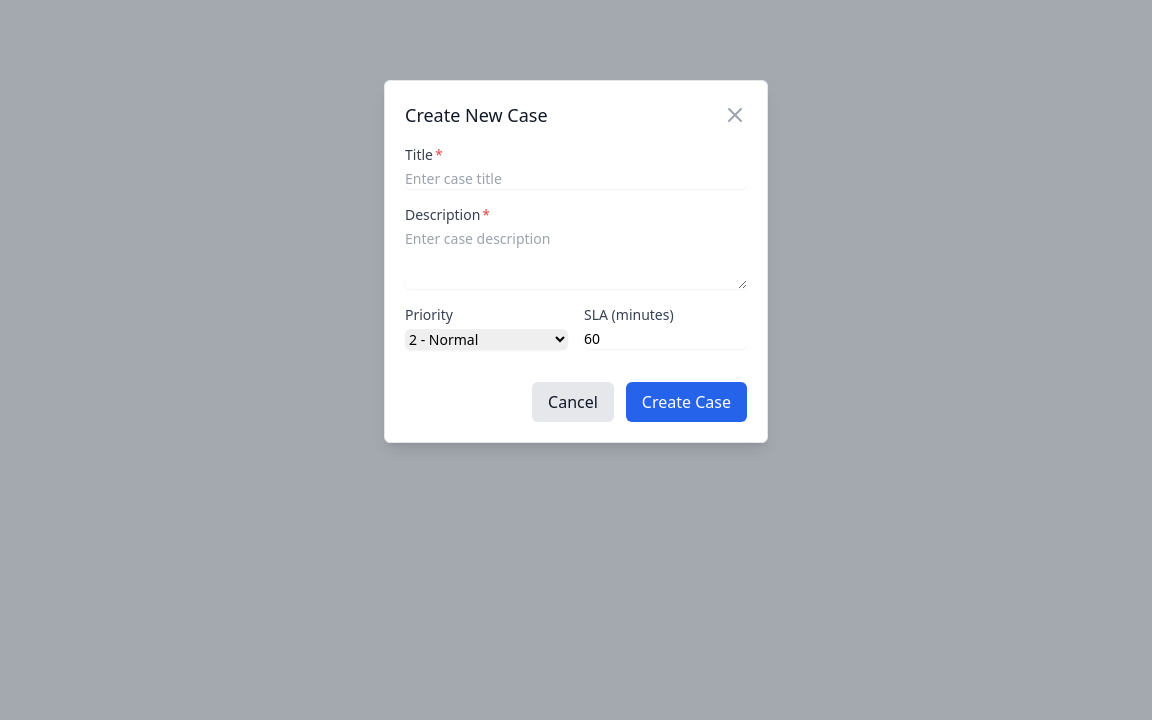
Scenario: CreateCaseModal › shows loading state when submitting
Type "Test Case" into the field with placeholder "Enter case title".
click(576, 179); type("Test Case")  # box [405,169,747,189]
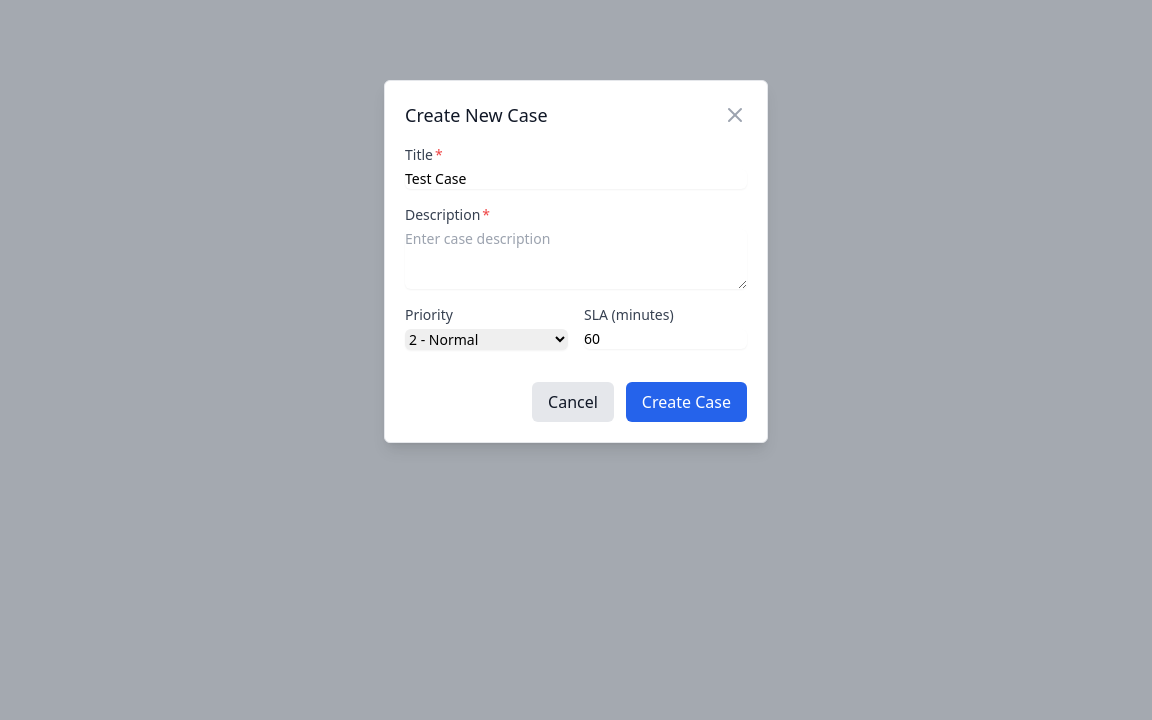
Type "Test Description" into the text box with placeholder "Enter case description".
click(576, 259); type("Test Description")  # box [405,229,747,289]
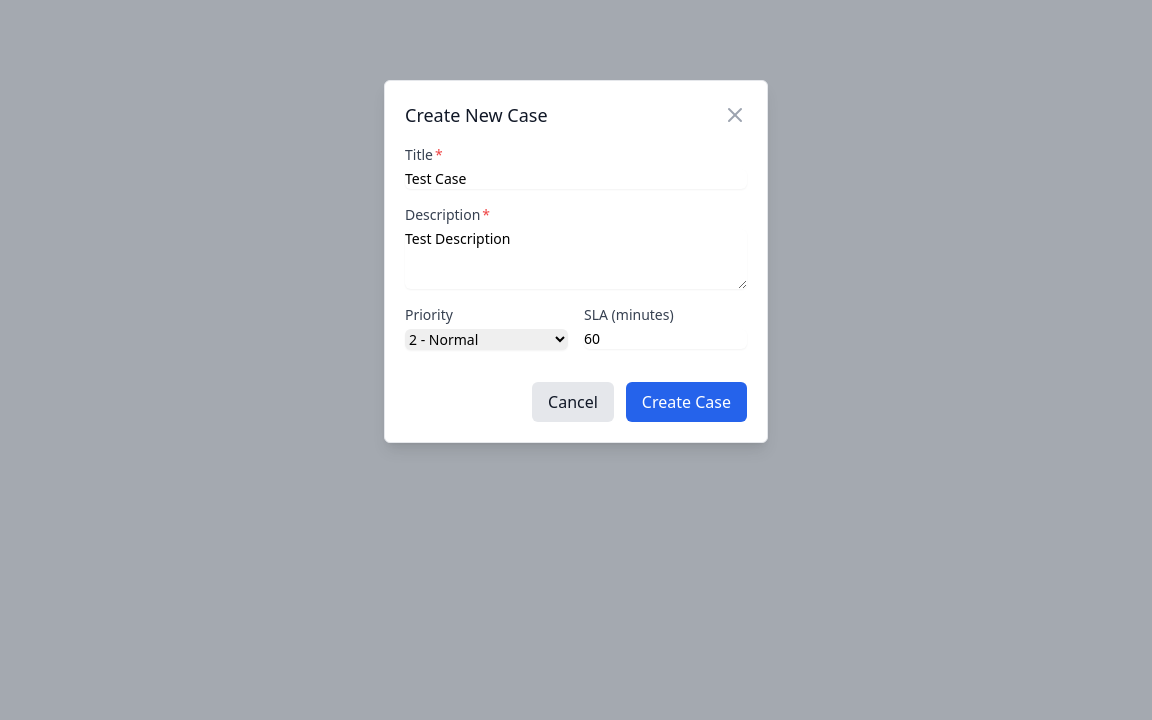
Click the button "Create Case".
click(686, 402)  # box [626,382,747,422]
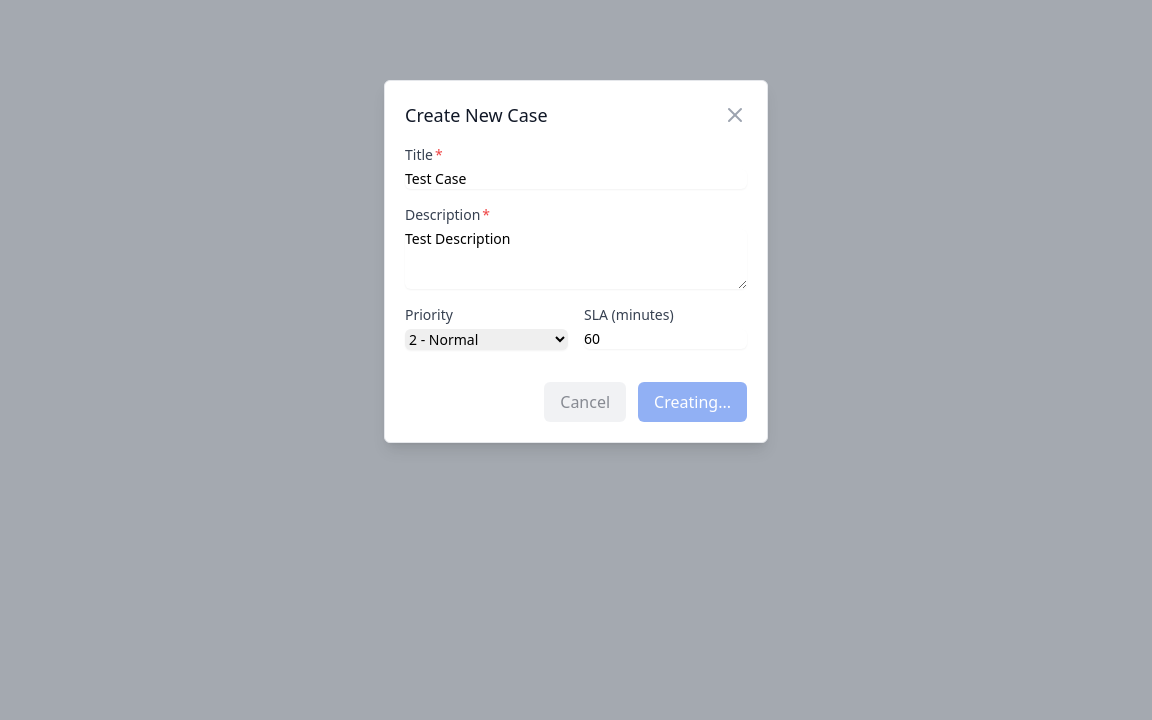
Now the button "Creating..." is disabled, box [638,382,747,422]
